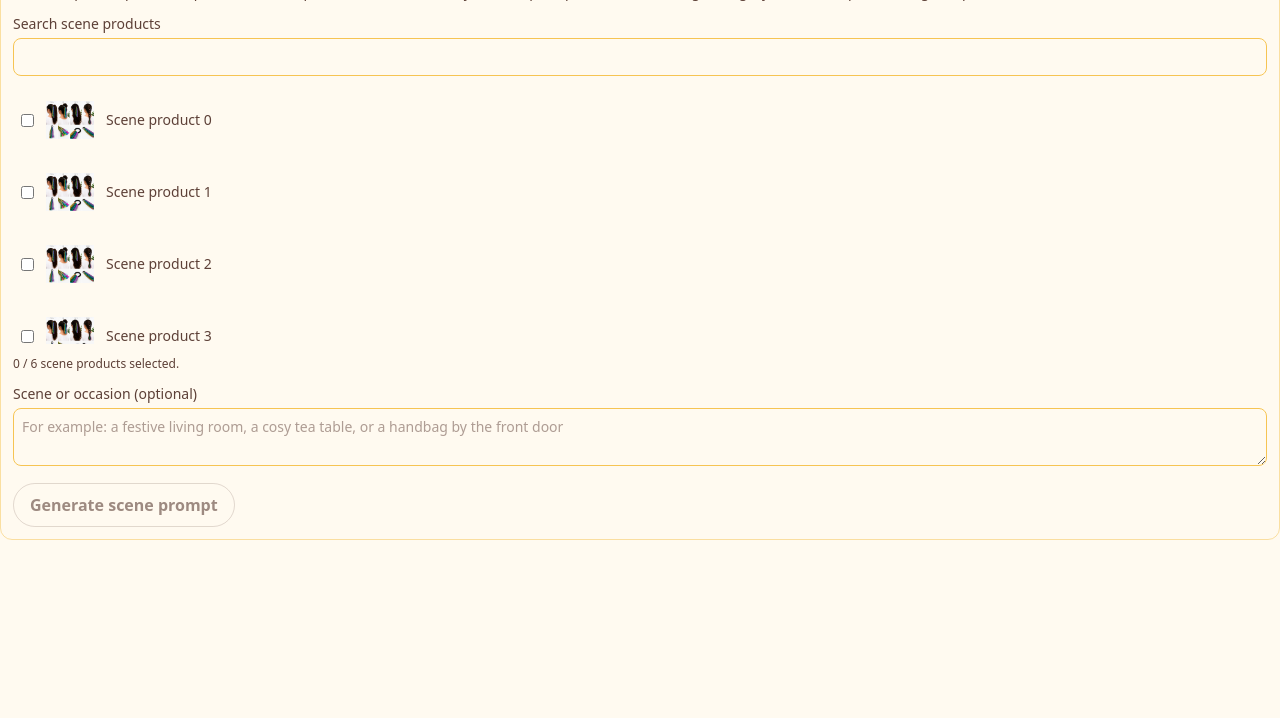
Test: copies the prompt and surfaces clipboard failures while leaving manual copy available
This screenshot has width=1280, height=718.
Click the checkbox labelled "Scene product 0" at (28, 120), box [21,114,34,126]
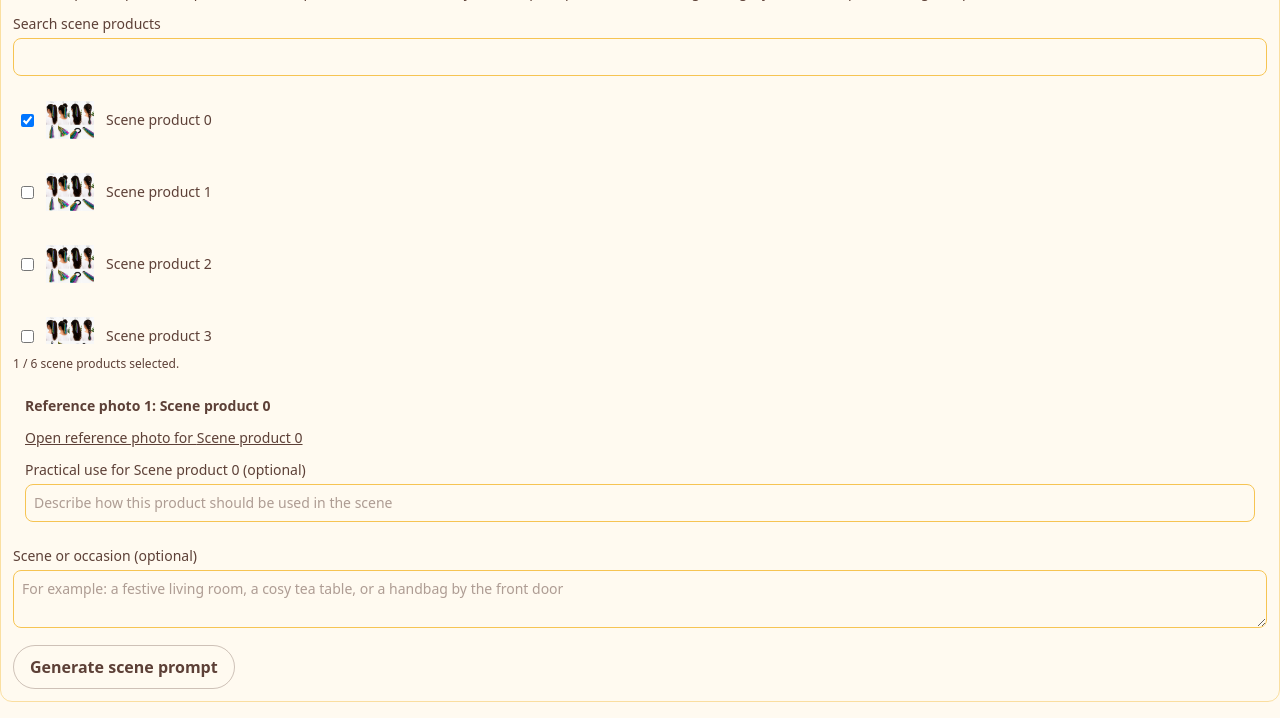
Click the button "Generate scene prompt" at (124, 667), box [13,645,235,689]
(page scrolled)
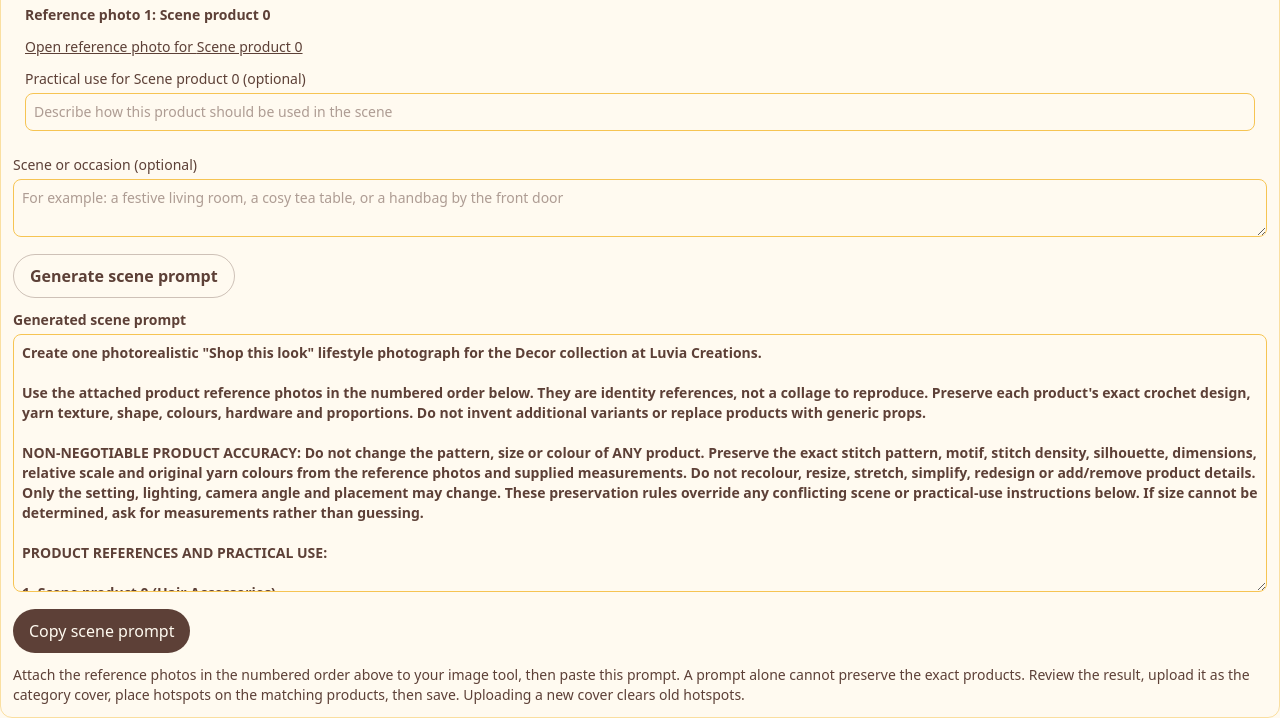
Click the button "Copy scene prompt" at (102, 631), box [13,609,190,653]
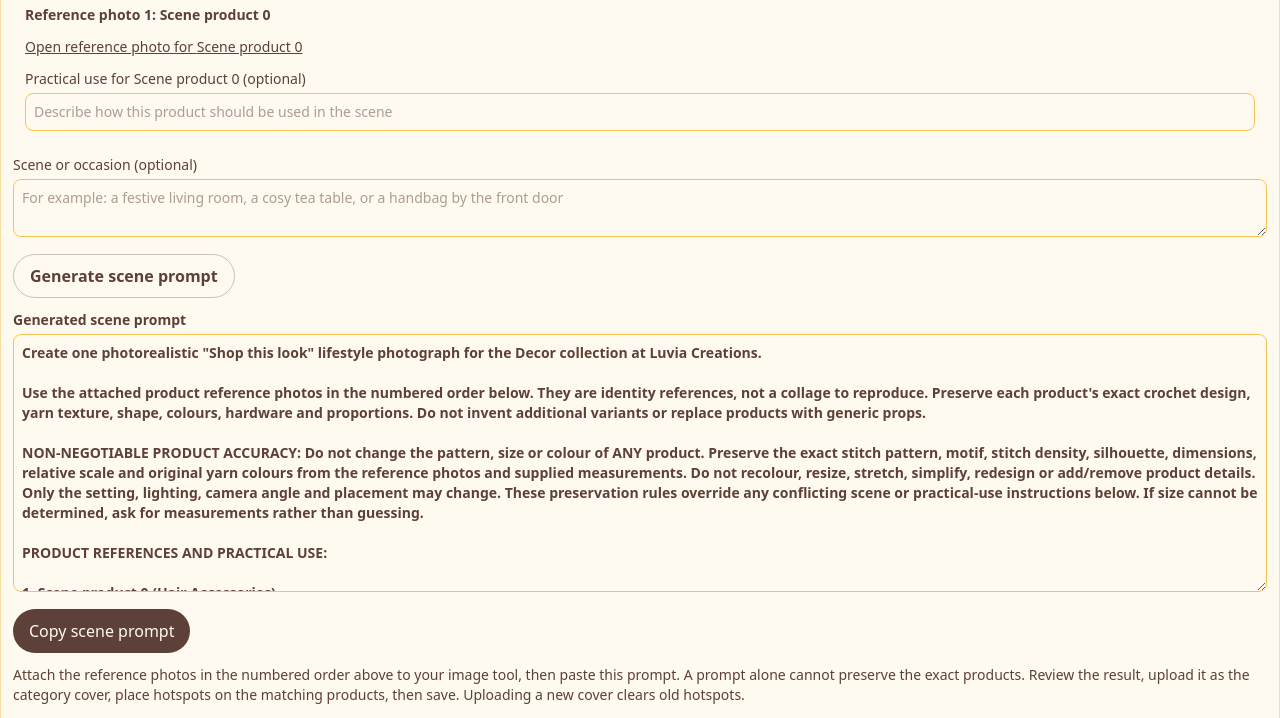
Click the button "Copy scene prompt" at (102, 631), box [13,609,190,653]
(page scrolled)
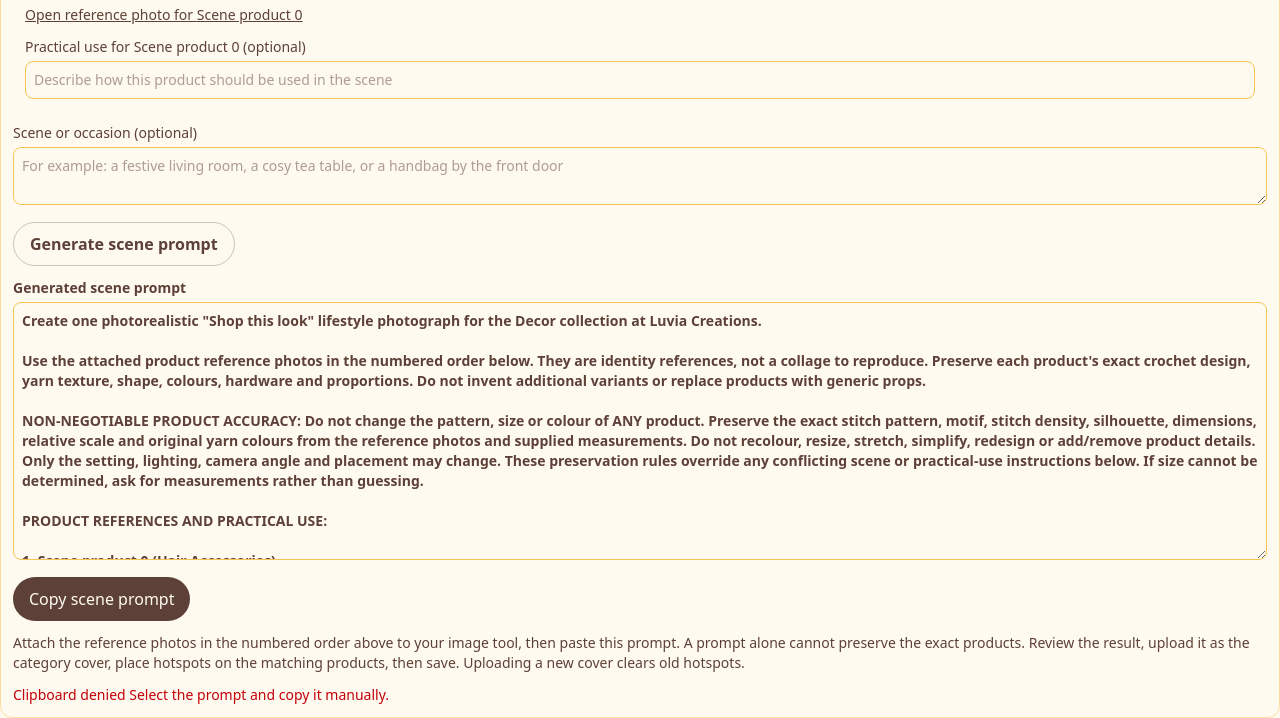
Expected: the message shows "Clipboard denied", [13,685,389,704]
